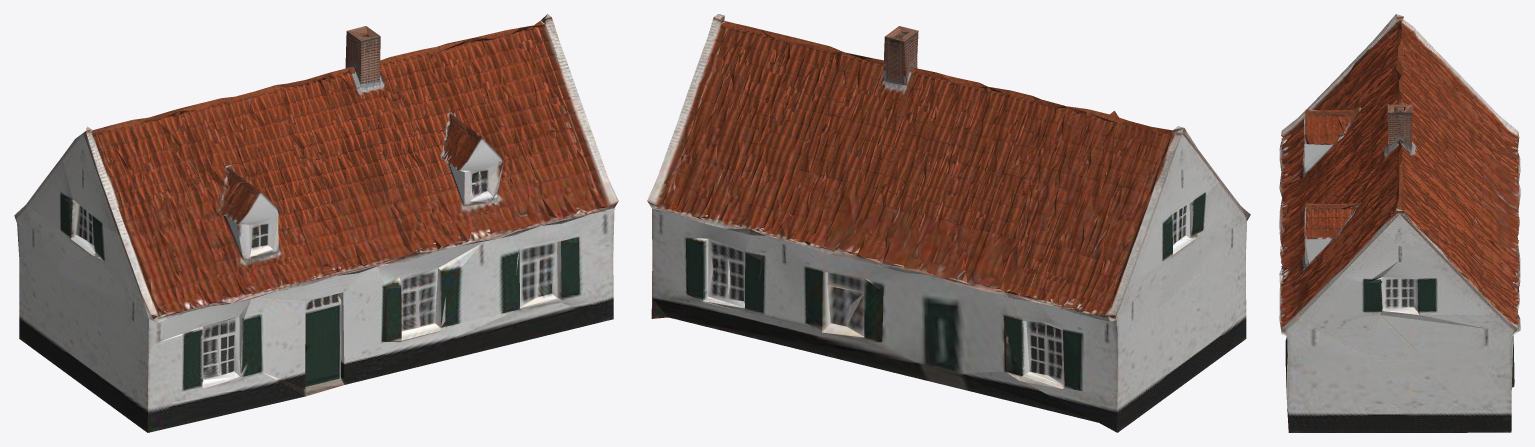
File: house.glb
3 views of the same model, side by side, from view 1: azimuth 30°, elevation 25°; view 2: azimuth 150°, elevation 25°; view 3: azimuth 270°, elevation 25° (orthographic). The views are drawn at different scales.
Visible parts, largest first — view 1: output_unwrapped; view 2: output_unwrapped; view 3: output_unwrapped.
Boxes of the visible parts, x1,y1,x2,y2 form: output_unwrapped: (14, 14, 618, 432); output_unwrapped: (647, 14, 1250, 432); output_unwrapped: (1279, 14, 1520, 432).
Size of the model in its own units: 1.9 by 1.1 by 0.9747.
1 material, 1 textured.
